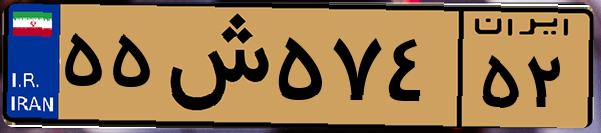2: (525, 38, 570, 115)
4: (385, 28, 445, 110)
5: (270, 28, 330, 110), (57, 26, 110, 100), (475, 38, 525, 113), (110, 28, 158, 98)
7: (330, 28, 385, 110)
ش: (158, 12, 270, 120)
